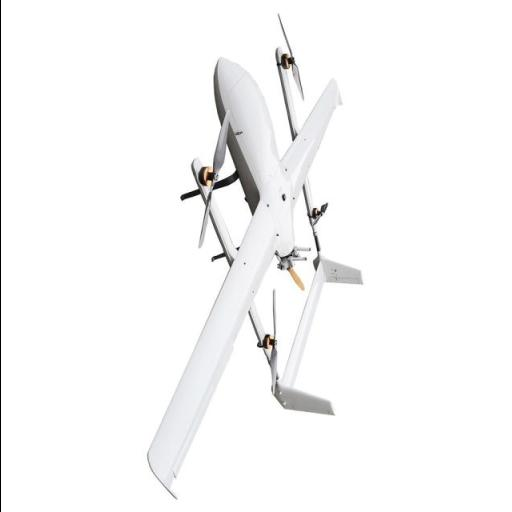uav: (127, 24, 367, 509)
